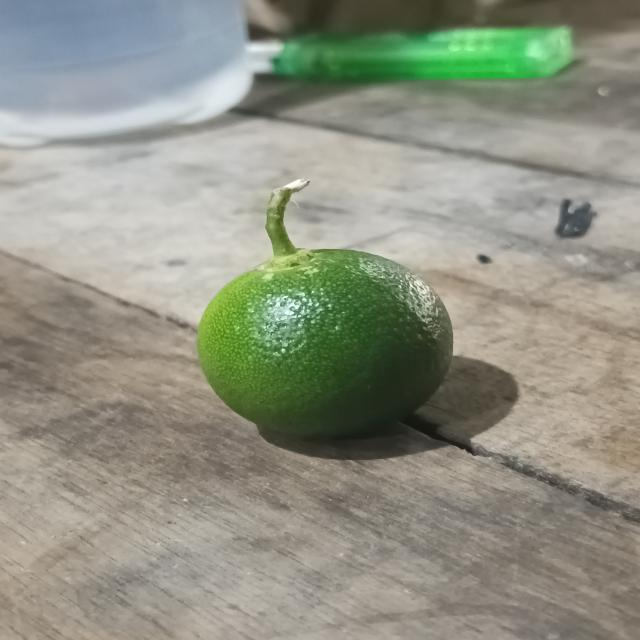heathy: (196, 246, 452, 440)
